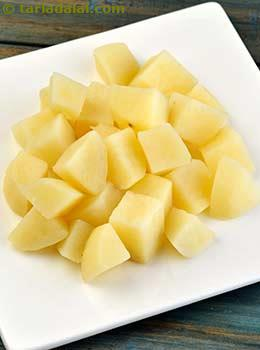boiled potatoes: (13, 48, 244, 268)
